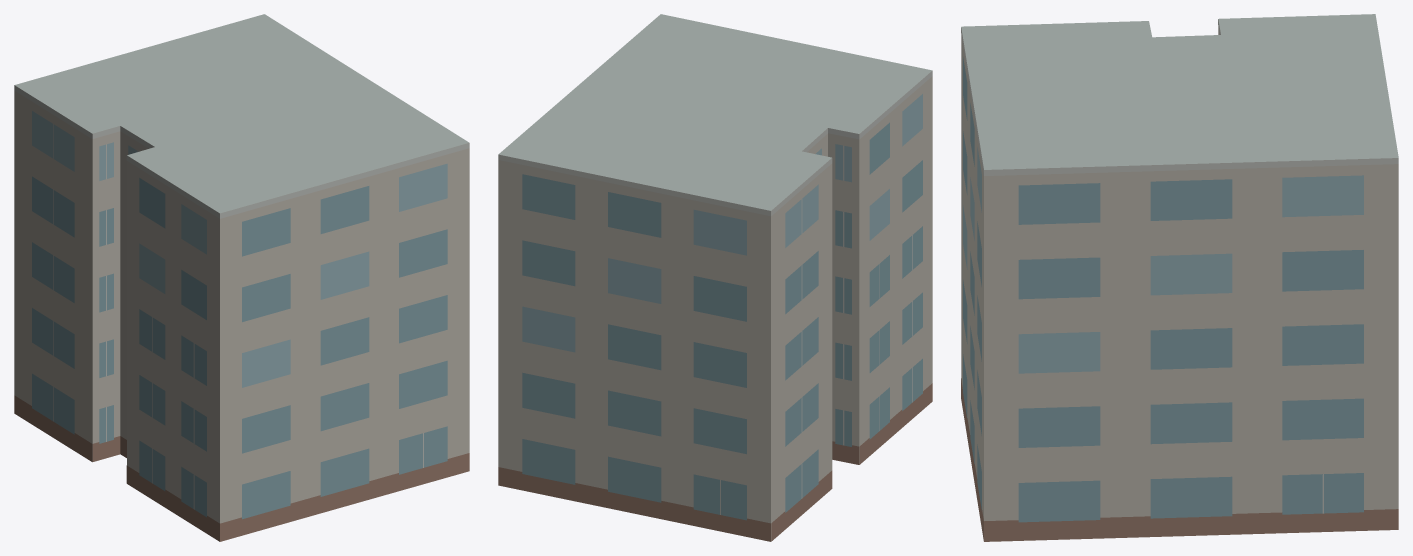
Rendered from survey-upis-32872808.glb.
3 renders of one model, left to right at view 1: azimuth 30°, elevation 25°; view 2: azimuth 150°, elevation 25°; view 3: azimuth 270°, elevation 25°, orthographic. The views are drawn at different scales.
Parts seen in each view (by area): view 1: survey-upis-32872808.tmp; view 2: survey-upis-32872808.tmp; view 3: survey-upis-32872808.tmp.
Boxes of the visible parts, <box> form: survey-upis-32872808.tmp: <box>14,14,469,541</box>; survey-upis-32872808.tmp: <box>498,14,932,541</box>; survey-upis-32872808.tmp: <box>961,14,1398,541</box>.
Bounding box in the file's own units: 13.41 × 14.9 × 15.9.
